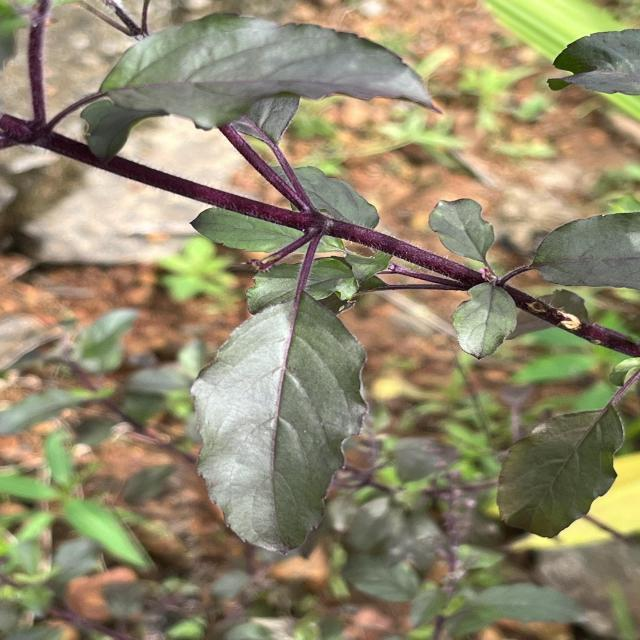Ocimum tenuiflorum: (185, 292, 374, 557)
